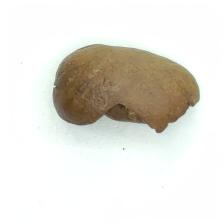NG: (86, 95, 199, 133)
